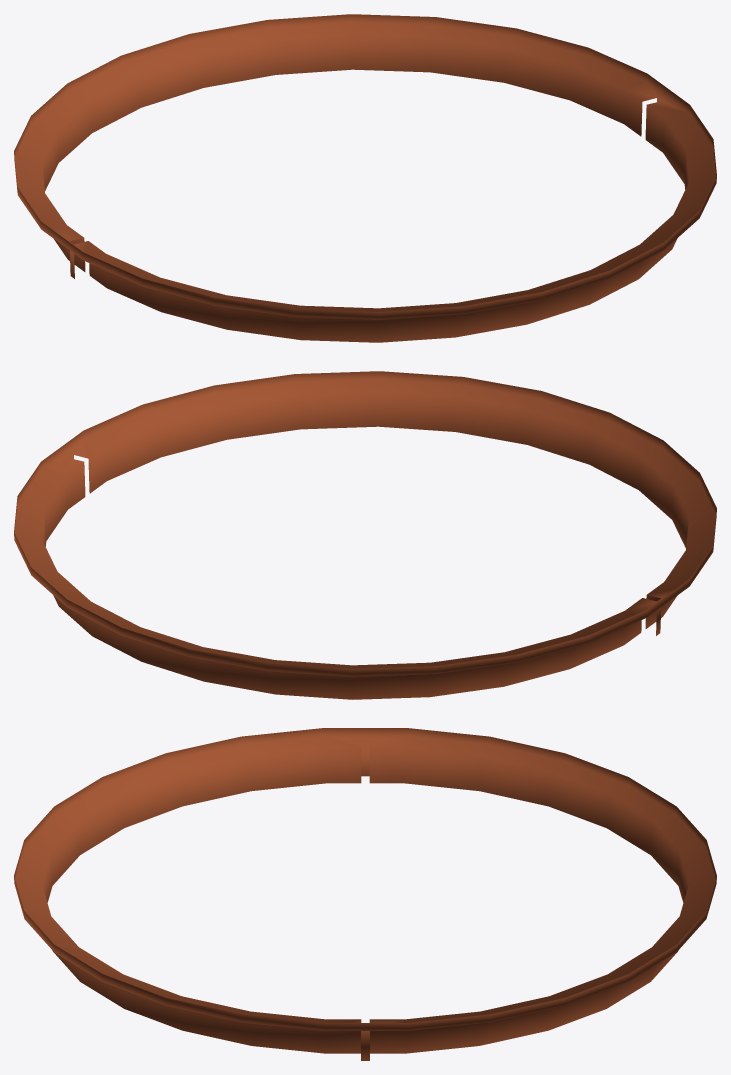
File: original-5.obj
3 views of the same model, one above another, from view 1: azimuth 30°, elevation 25°; view 2: azimuth 150°, elevation 25°; view 3: azimuth 270°, elevation 25° (orthographic).
Parts seen in each view (by area): view 1: #ID26; view 2: #ID26; view 3: #ID26.
Part boxes in pixels (x1=…): #ID26: x1=14, y1=14, x2=716, y2=342; #ID26: x1=14, y1=371, x2=716, y2=699; #ID26: x1=14, y1=728, x2=716, y2=1060.
Bounding box in the file's own units: 1.26 × 0.0861 × 1.27.
